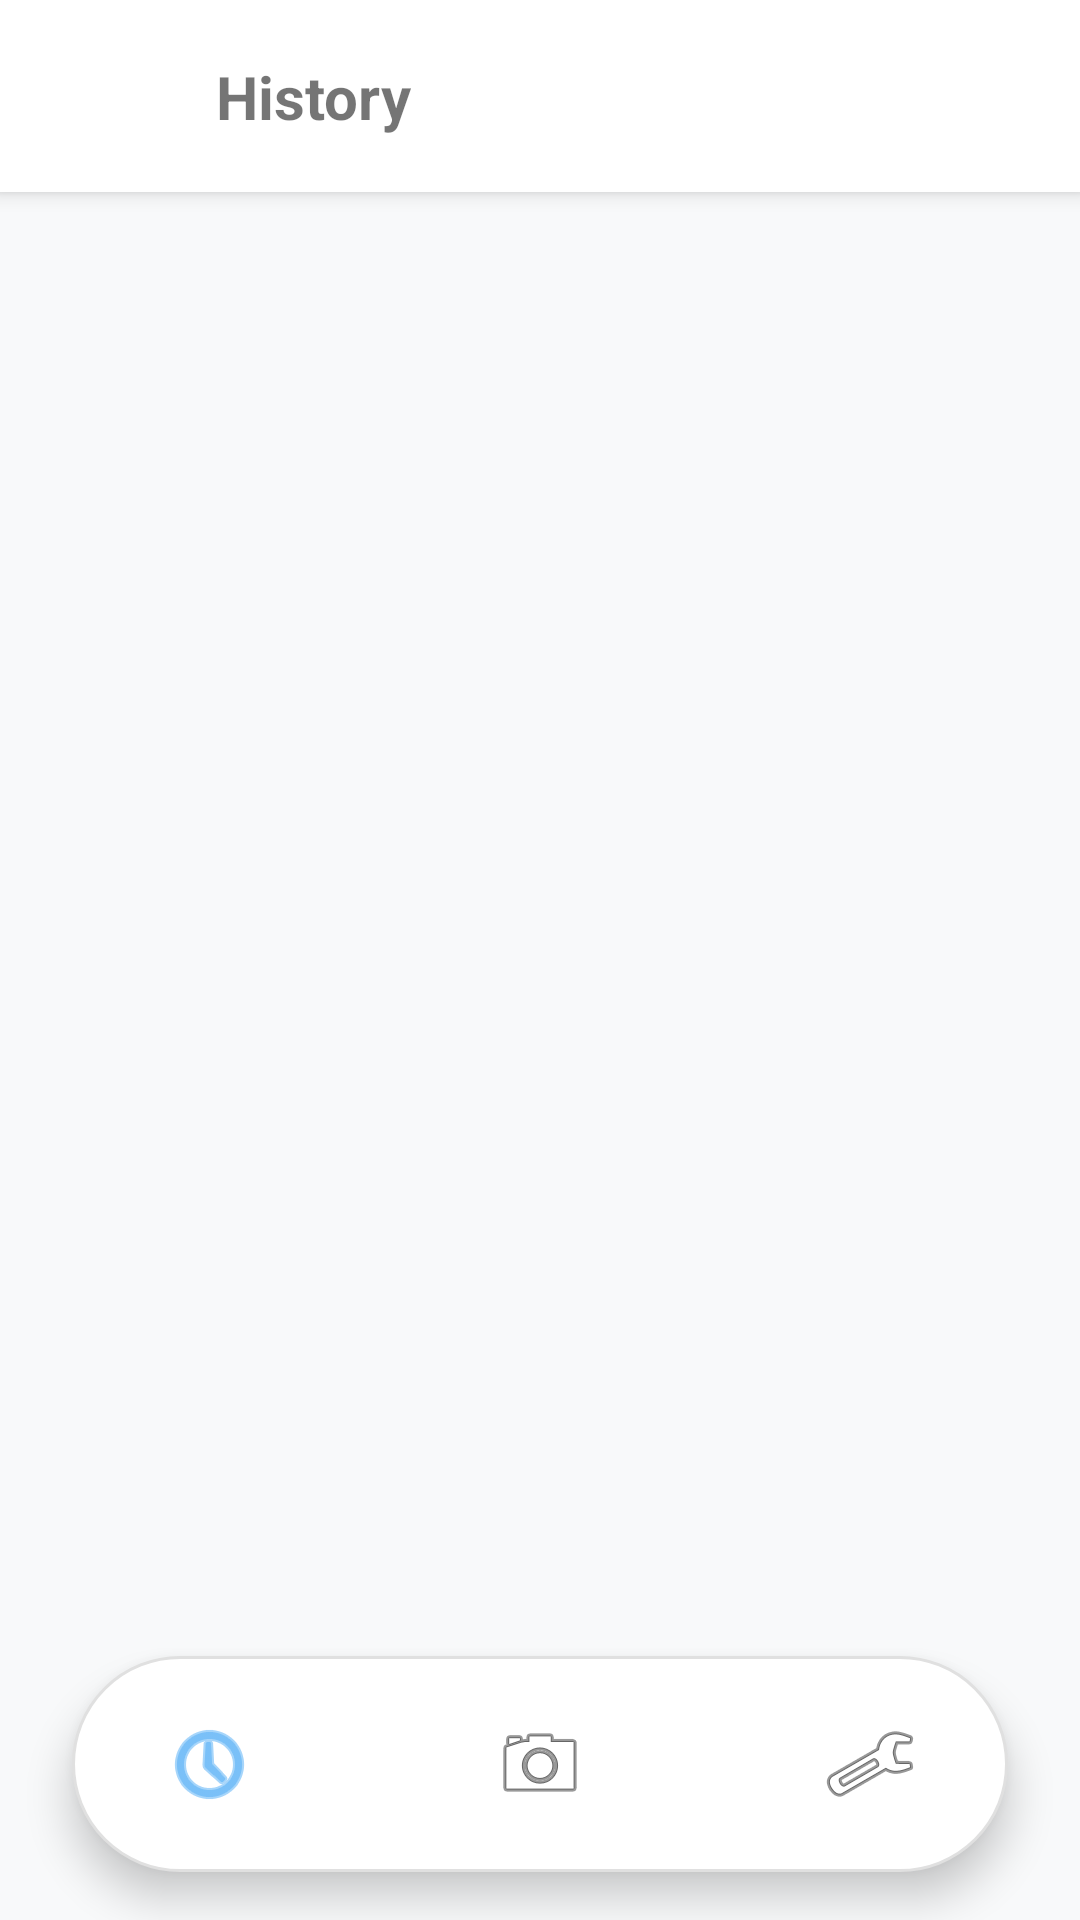

Locate icon controls on the screen. Image size 1080px×1920px, boxes as (x1, y1, x2, y2).
Camera: (503, 1733, 577, 1792)
History: (175, 1730, 244, 1799)
Settings: (827, 1731, 913, 1797)
